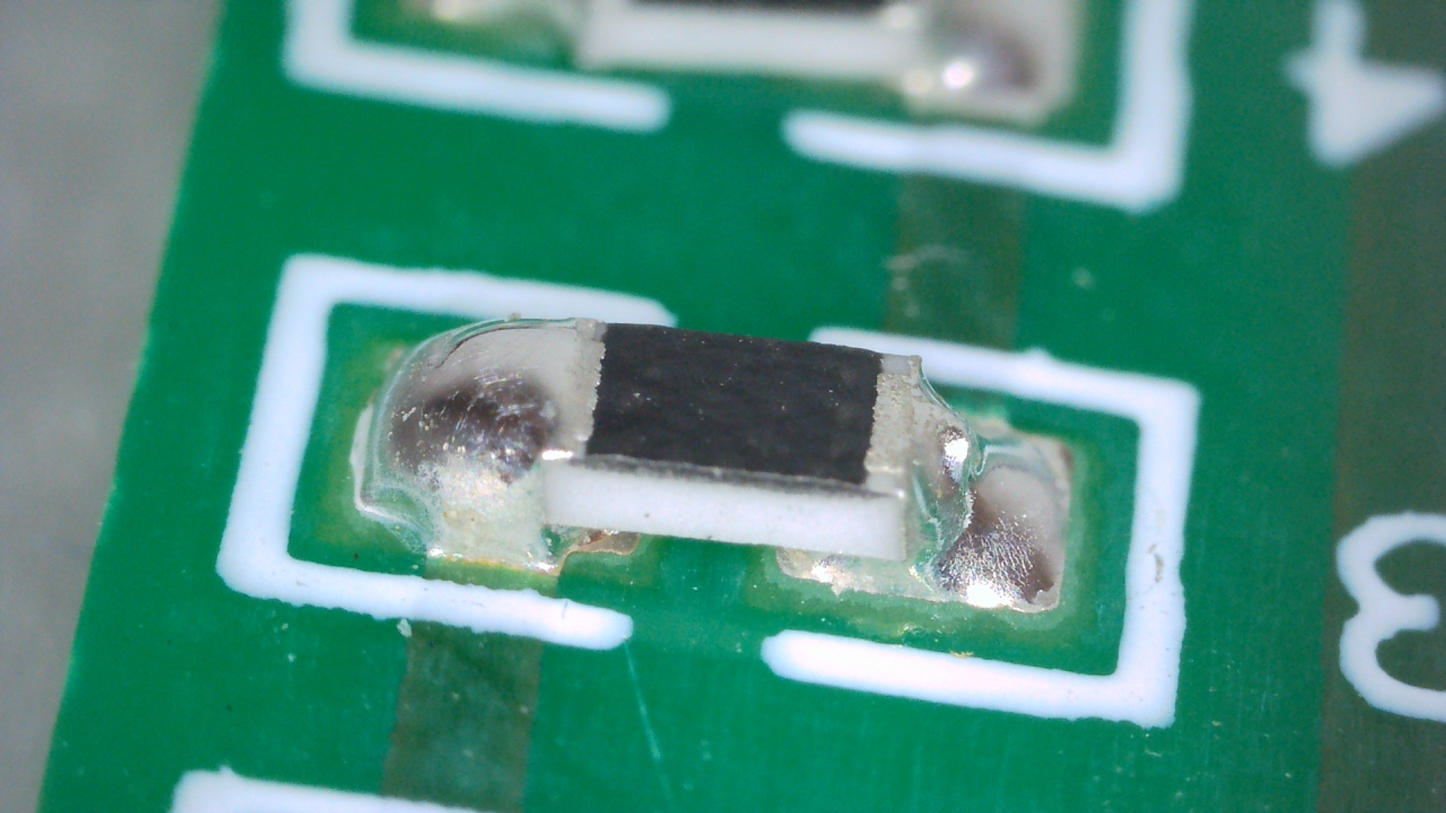NG: (372, 318, 607, 578), (812, 353, 1053, 602), (917, 405, 974, 496)
